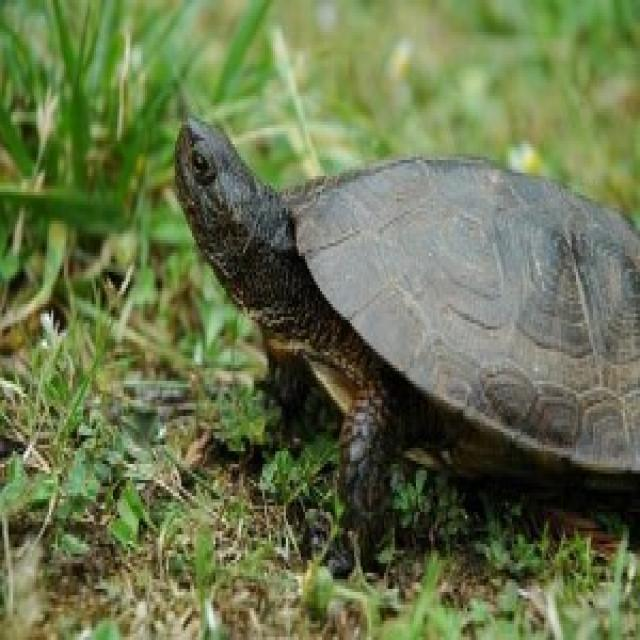Sea turtle: (146, 124, 640, 574)
